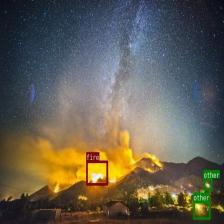fire: (86, 160, 108, 185)
